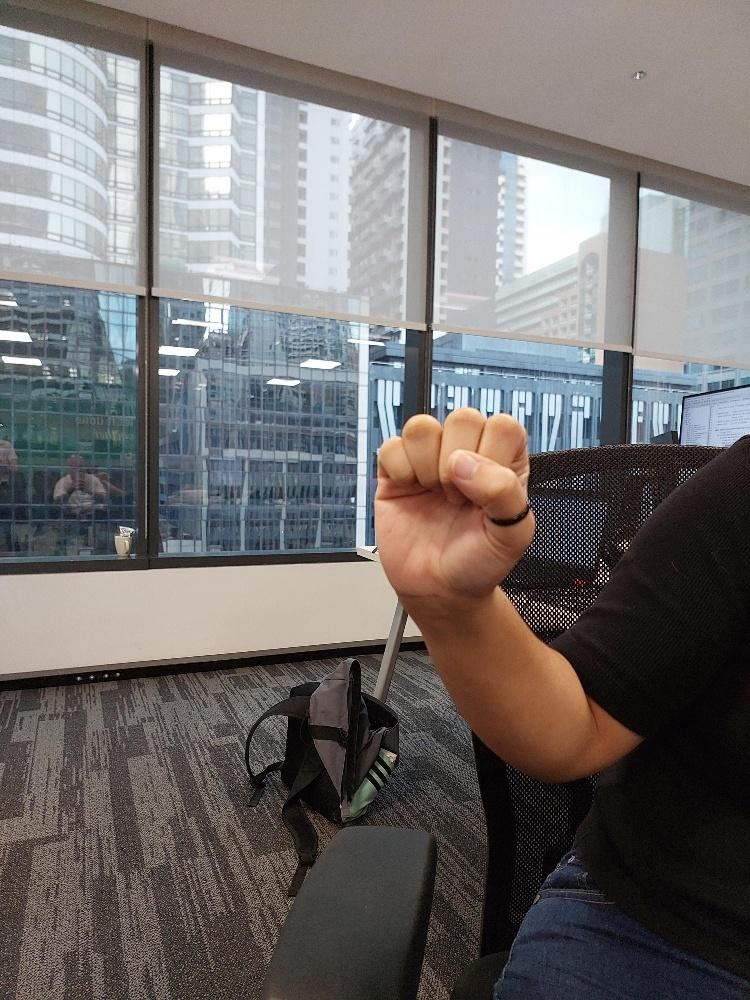s: (370, 401, 536, 615)
